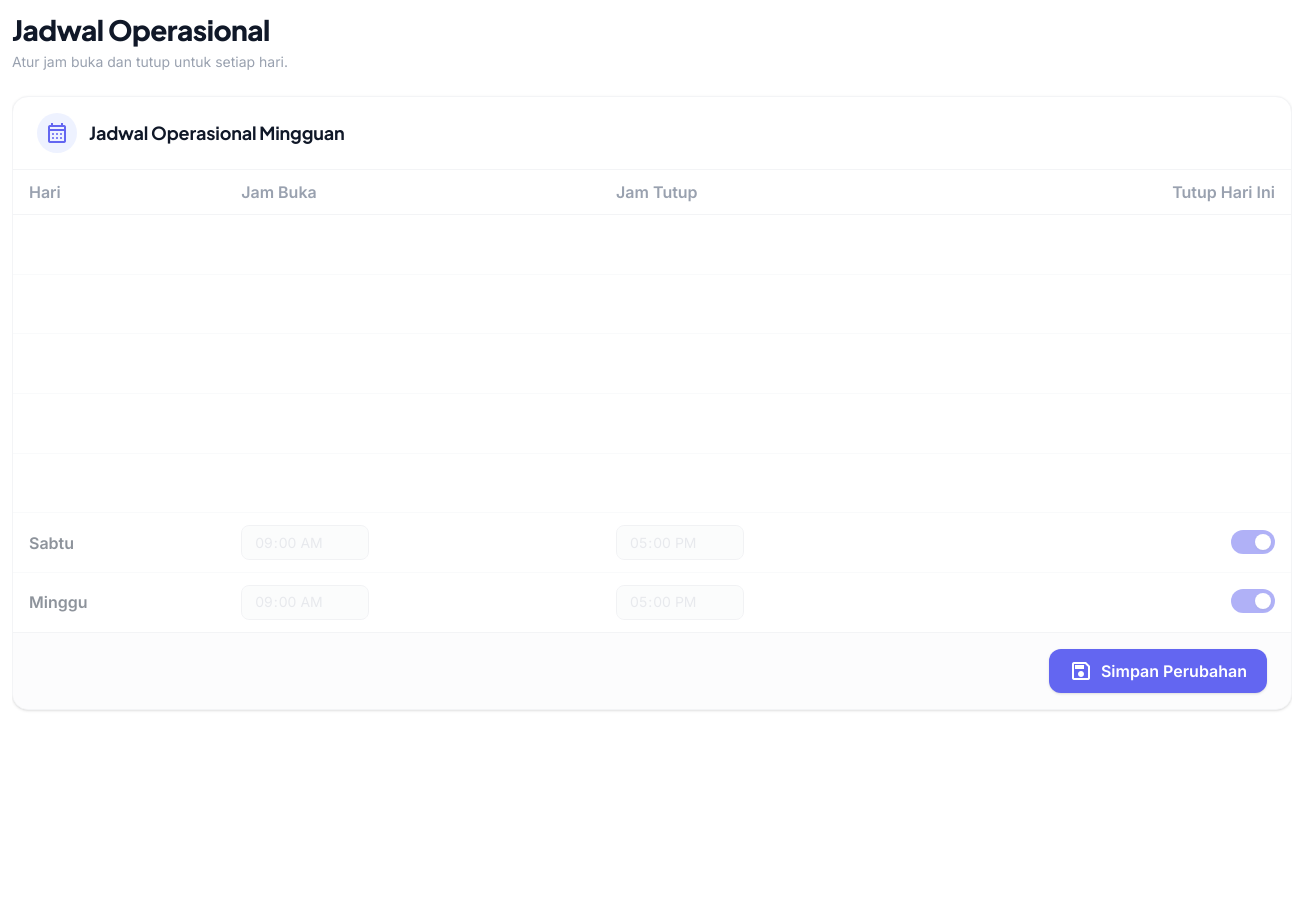
Test: ScheduleManager › simpan jadwal berhasil menampilkan toast sukses
This screenshot has width=1292, height=912.
Click the button "Simpan Perubahan" at {"x": 1158, "y": 671}, box [1049,649,1267,693]
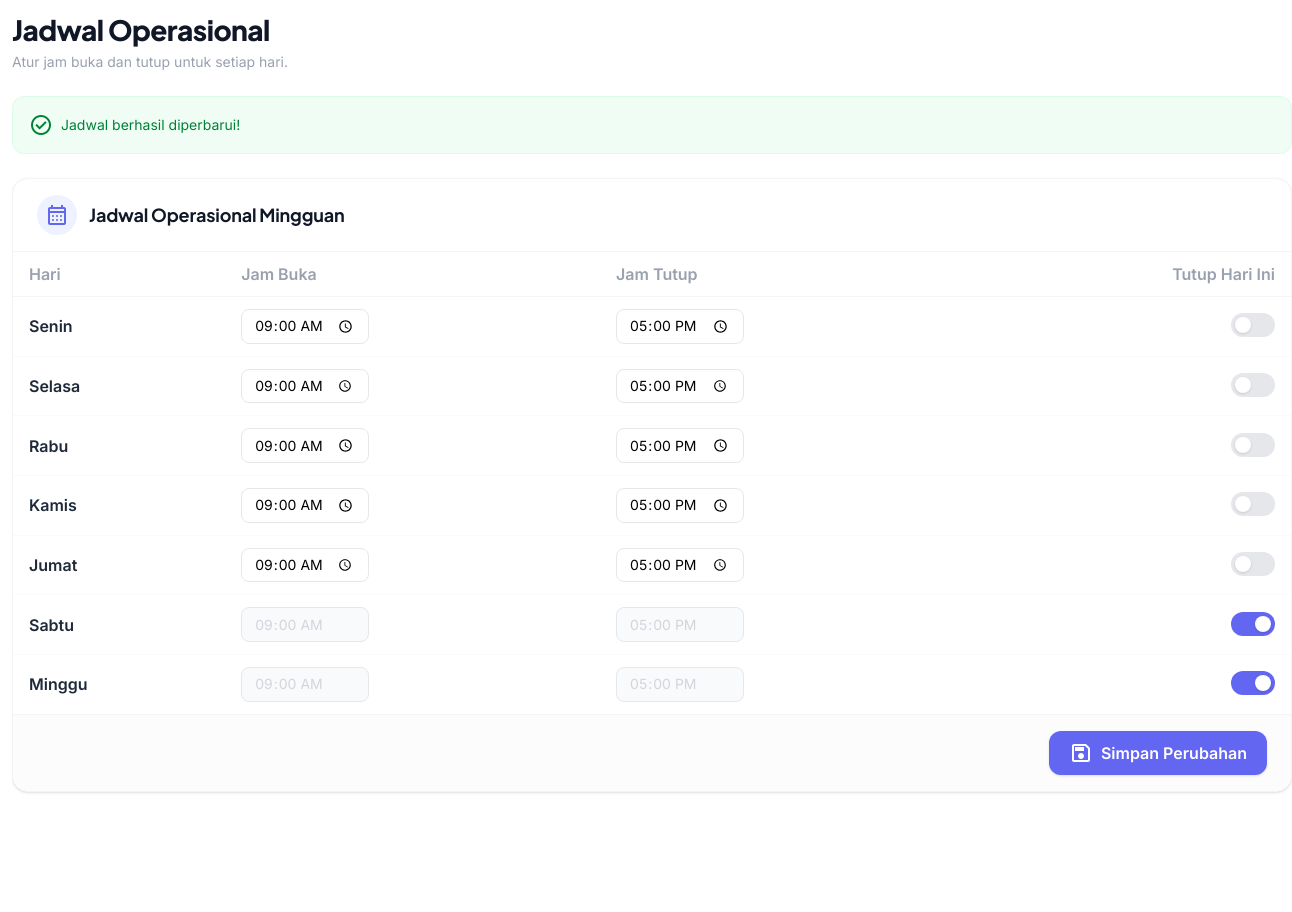
Now the text "Jadwal berhasil diperbarui!" is shown, box [61,115,240,135]
